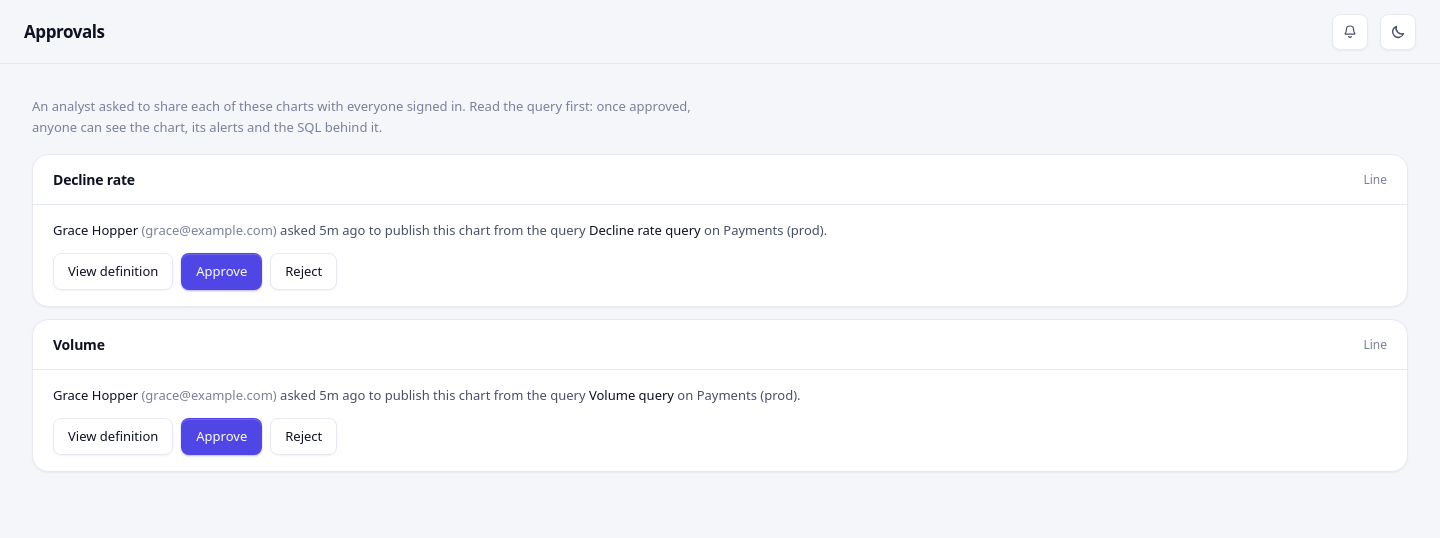
Test: for an administrator › keeps a network failure in the row, which stays so it can be retried
Click the 1st button "Approve" at (222, 272), box [181,253,262,290]
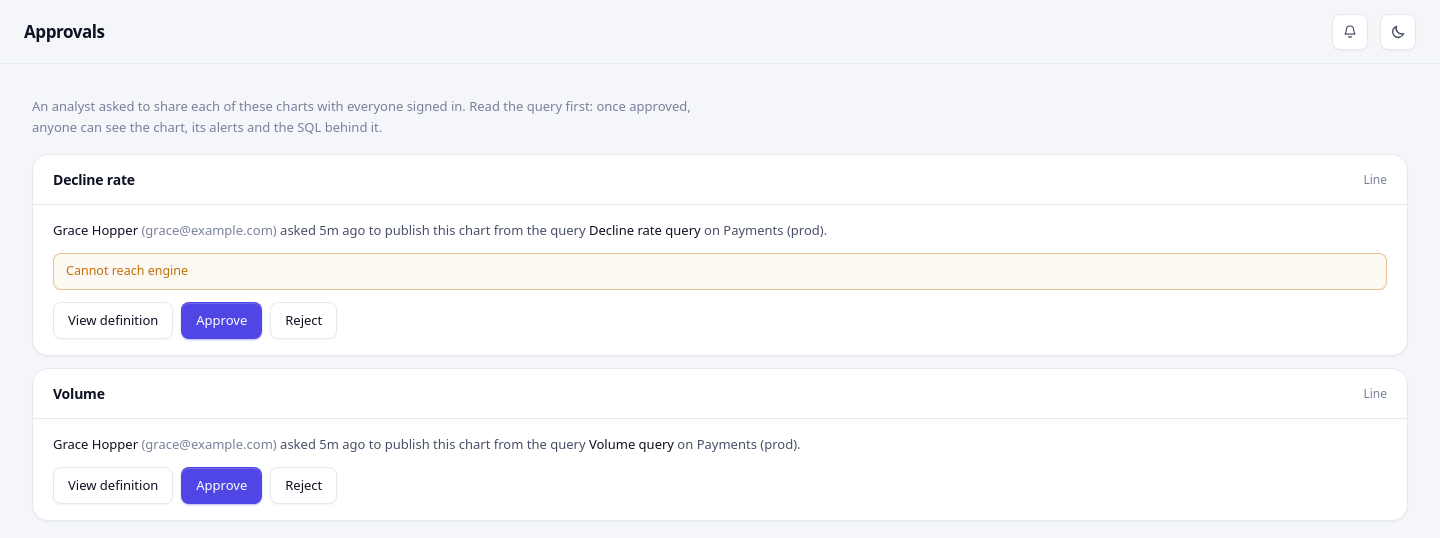
Check: the button "Approve" below "Cannot reach engine" is enabled, box [181,302,262,339]
Check: the message reads "Cannot reach engine", box [66,262,188,279]
